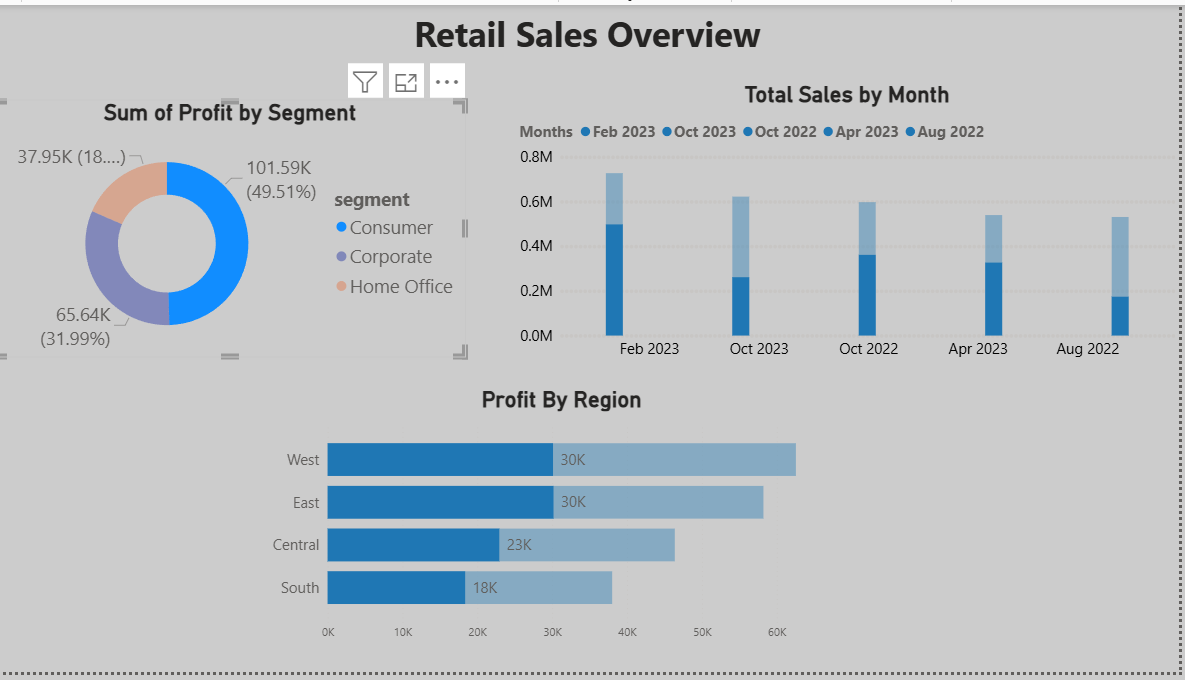

The dashboard page shown, as its layout file describes it:
{"tool":"powerbi","page":{"name":"Page 1","canvas":[1280,720],"ordinal":1},"visuals":[{"type":"textbox","box":[380.2,0,519.7,66.1],"z":0},{"type":"donutChart","title":"Sum of Profit by Segment","fields":{"Category":["df_orders (2).segment"],"Y":["Sum(df_orders (2).profit)"]},"box":[0,101.5,509.5,278.8],"z":1000},{"type":"lineClusteredColumnComboChart","title":"Total Sales by Month","fields":{"Series":["df_orders (2).MonthYear"],"Y":["df_orders (2).TotalSales"],"Category":["df_orders (2).MonthYear"]},"box":[561.2,83.1,718.2,310.2],"z":2000},{"type":"clusteredBarChart","title":"Profit By Region","fields":{"Category":["df_orders (2).region"],"Y":["df_orders (2).ProfitByRegion"]},"box":[289.8,411.7,646.2,284.3],"z":3000}]}

Visuals, with their boxes in screenshot pixels (x1, y1, x2, y2), scaled from the page's 1280x720 canvas onto the 1185x680 screenshot:
textbox: crop(352, 0, 833, 62)
"Sum of Profit by Segment" donutChart: crop(0, 96, 472, 359)
"Total Sales by Month" lineClusteredColumnComboChart: crop(520, 78, 1184, 371)
"Profit By Region" clusteredBarChart: crop(268, 389, 867, 657)
